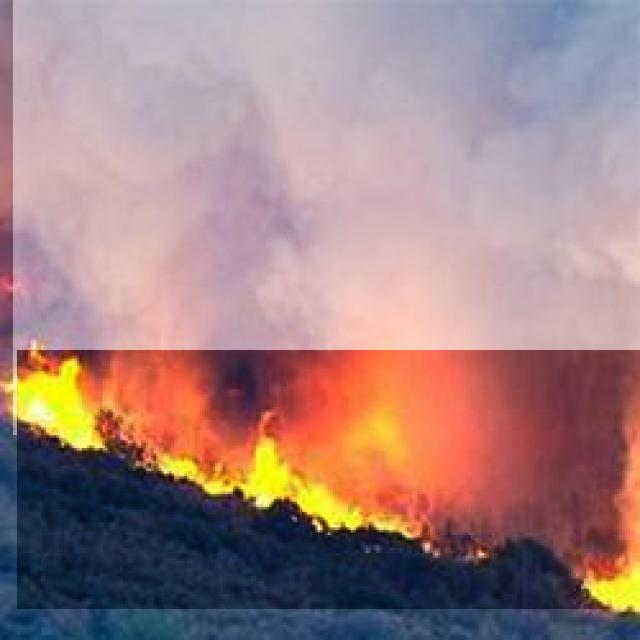Fire: (17, 350, 640, 609)
Smoke: (13, 0, 640, 435)
